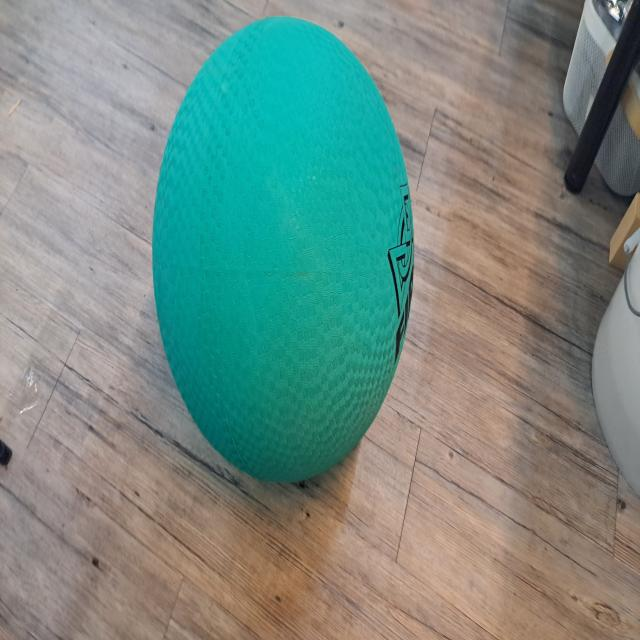ALGAE: (150, 14, 416, 486)
